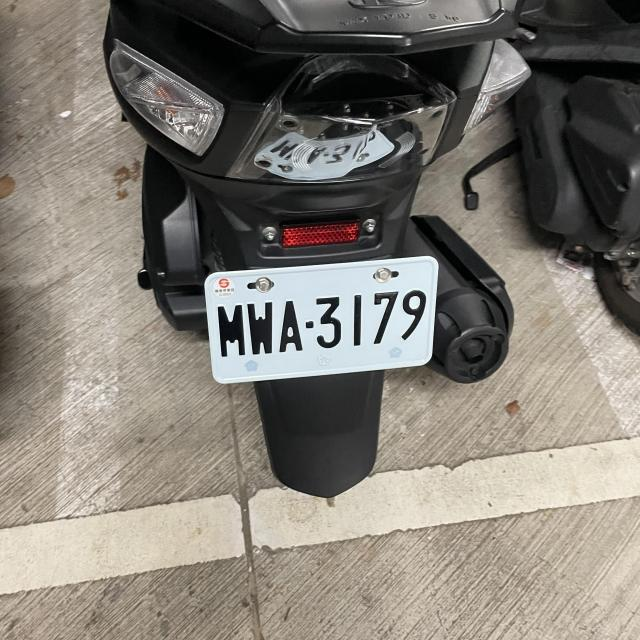W: (201, 256, 436, 384)
